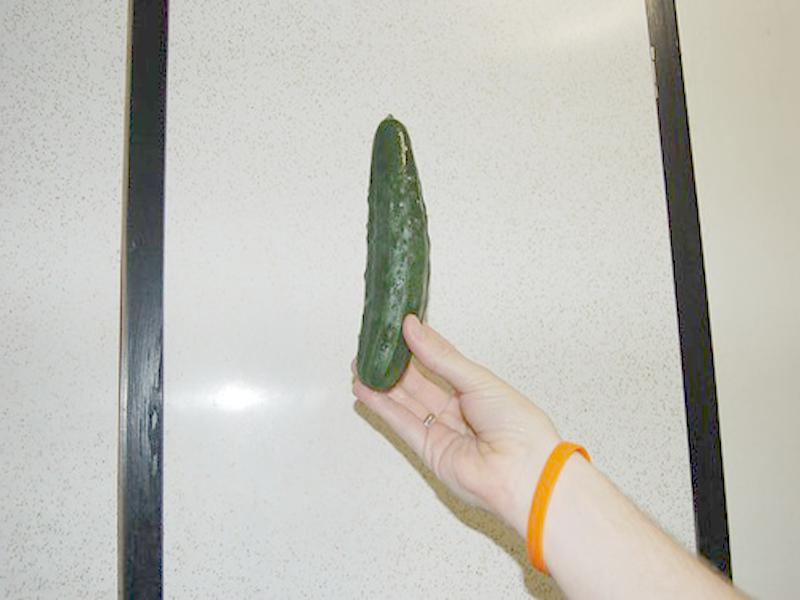Cucumber: (355, 112, 427, 392)
